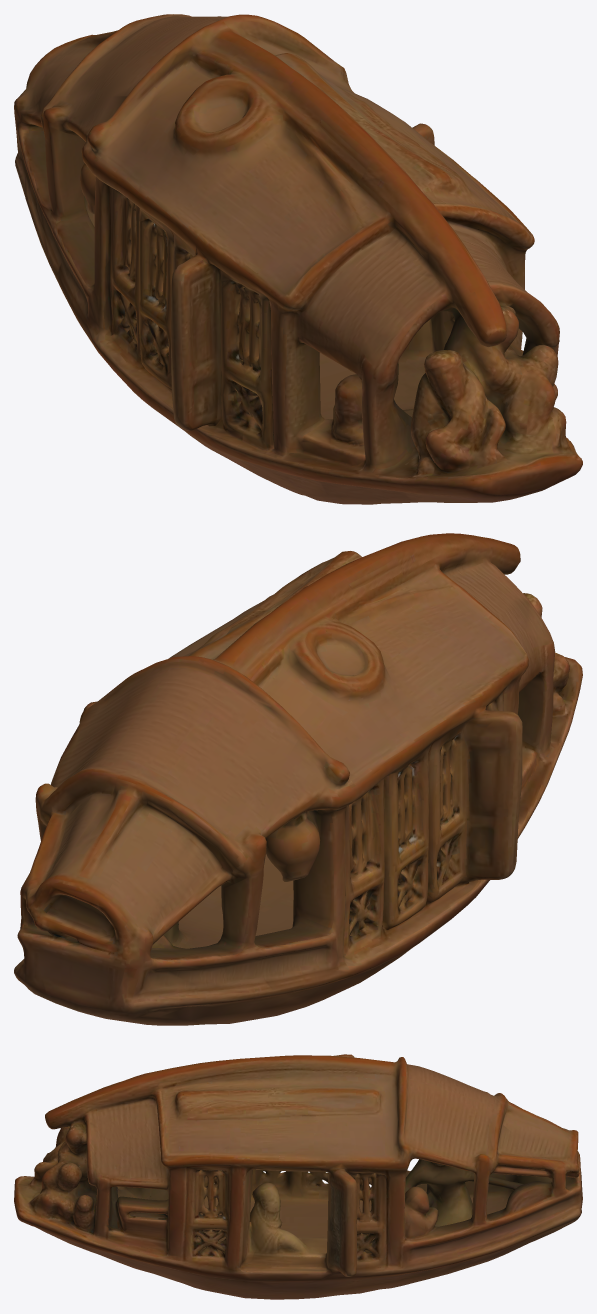
File: 核舟记核雕.glb
3 renders of one model, top to bottom at view 1: azimuth 30°, elevation 25°; view 2: azimuth 150°, elevation 25°; view 3: azimuth 270°, elevation 25°, orthographic. The views are drawn at different scales.
Parts seen in each view (by area): view 1: tripo_node_e7c43d5d; view 2: tripo_node_e7c43d5d; view 3: tripo_node_e7c43d5d.
Boxes of the visible parts, box(x1,y1,x2,y2) form: tripo_node_e7c43d5d: box(14, 14, 582, 504); tripo_node_e7c43d5d: box(14, 533, 582, 1025); tripo_node_e7c43d5d: box(14, 1054, 582, 1299).
Size of the model in its own units: 42.9 by 43.02 by 98.07.
Materials: 1 (1 with a texture image).
